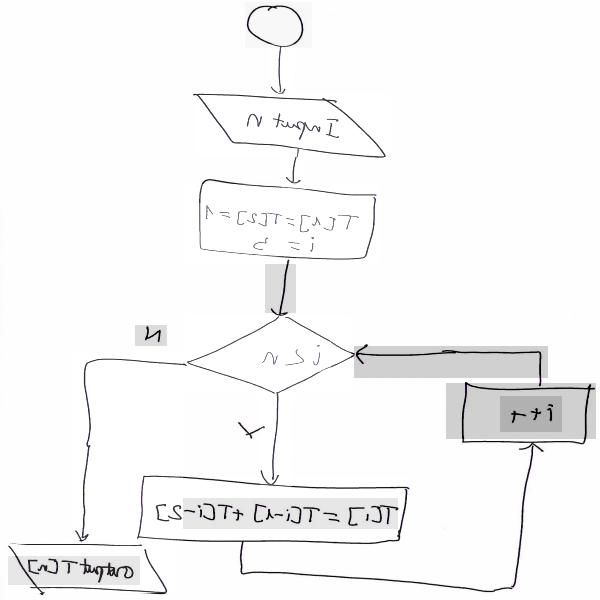arrow: (238, 443, 542, 590), (72, 353, 182, 540), (354, 346, 548, 378), (260, 394, 292, 487), (265, 257, 296, 313), (269, 44, 294, 96), (282, 147, 306, 192)
data: (195, 93, 389, 157), (7, 544, 174, 593)
decision: (185, 316, 350, 394)
process: (128, 477, 409, 545), (182, 184, 380, 264), (446, 383, 596, 439)
terminator: (245, 2, 312, 48)
text: (198, 203, 364, 256), (144, 498, 398, 529), (7, 557, 139, 586), (236, 108, 339, 139), (254, 341, 331, 372), (500, 396, 562, 432), (135, 325, 167, 346)
